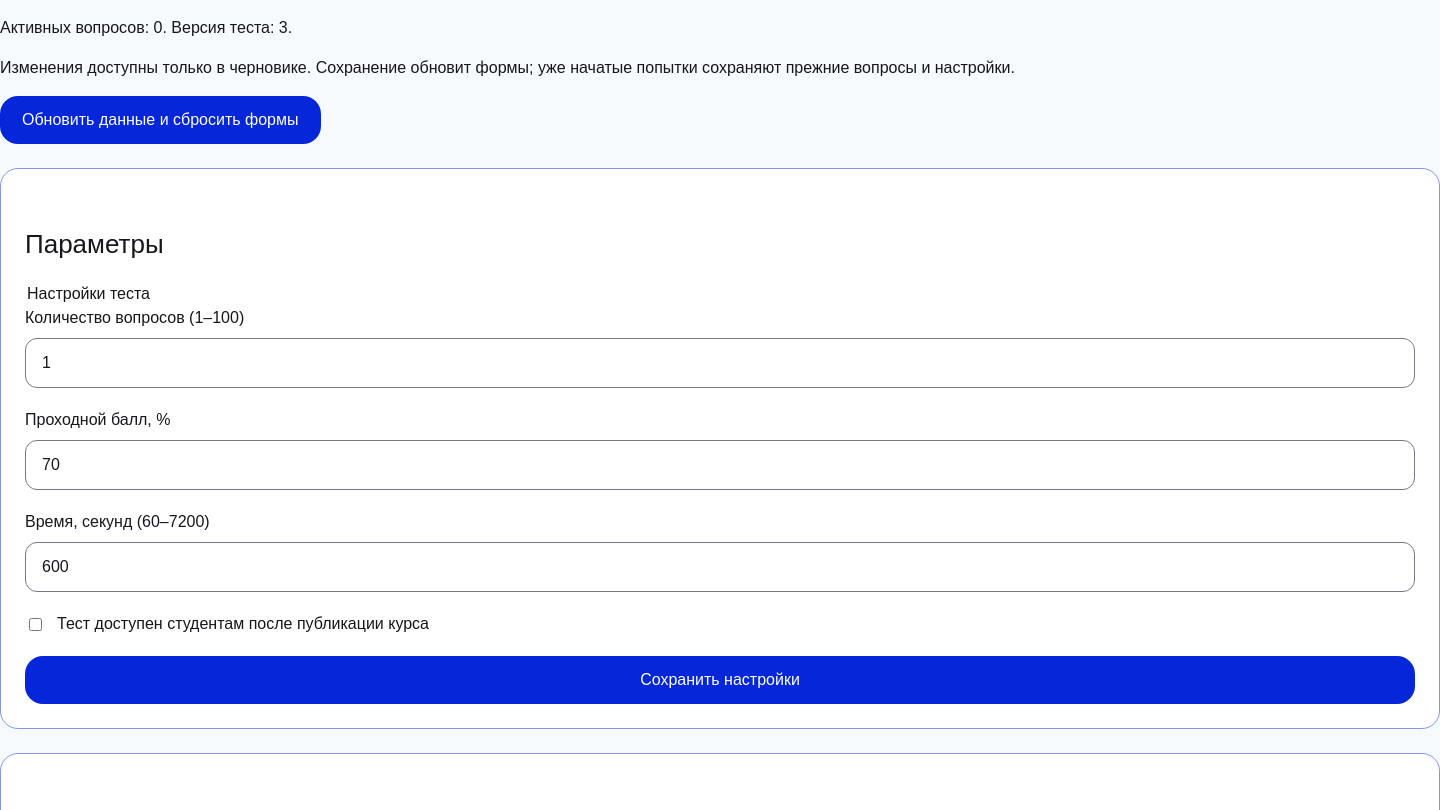
it: quiz authoring › keeps config fields on a stale revision error
The width and height of the screenshot is (1440, 810).
Step 1. Replace the text in the number field labelled "Количество вопросов (1–100)" with "5" → (720, 363), box [25, 338, 1415, 388]
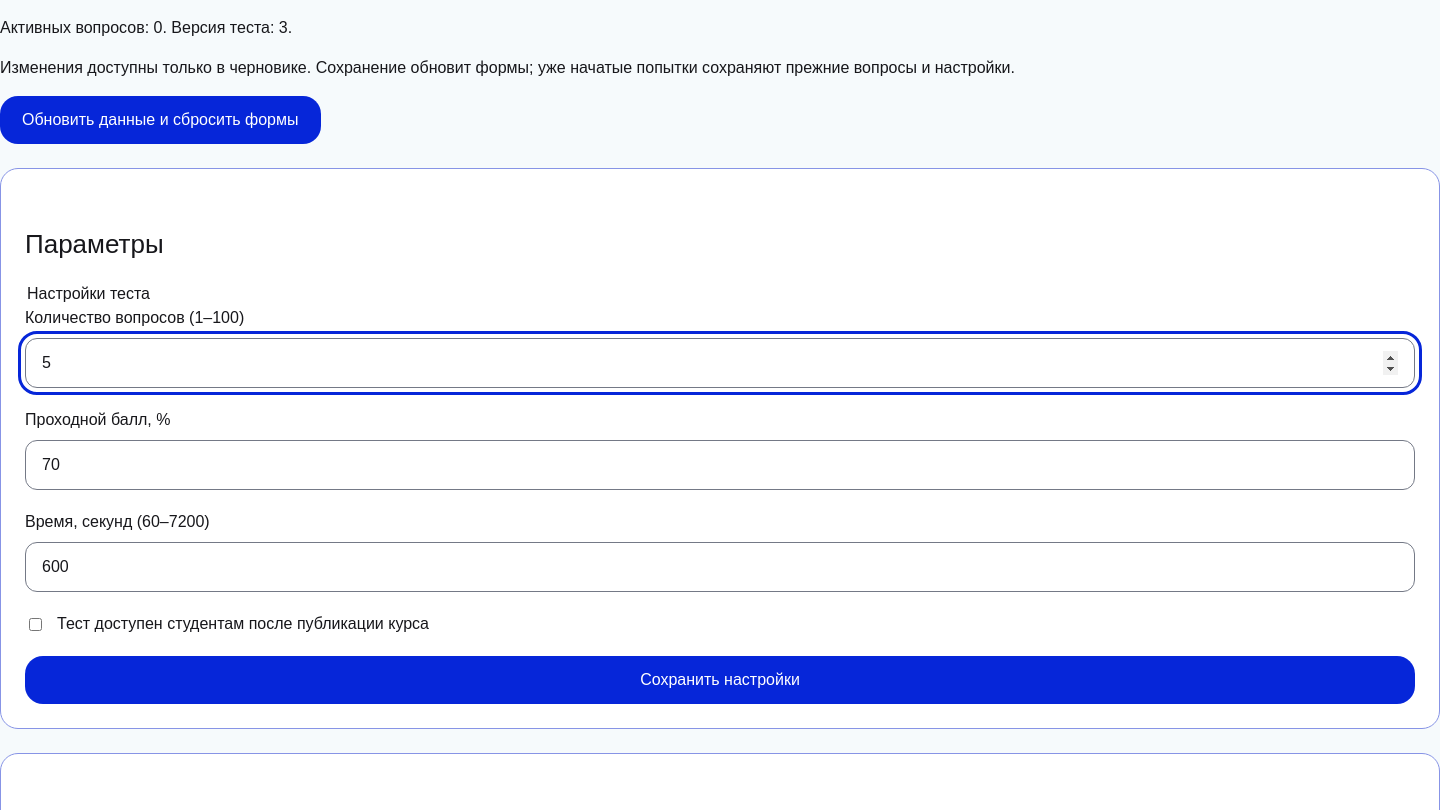
Step 2. Click the button "Сохранить настройки" → (720, 680), box [25, 656, 1415, 704]
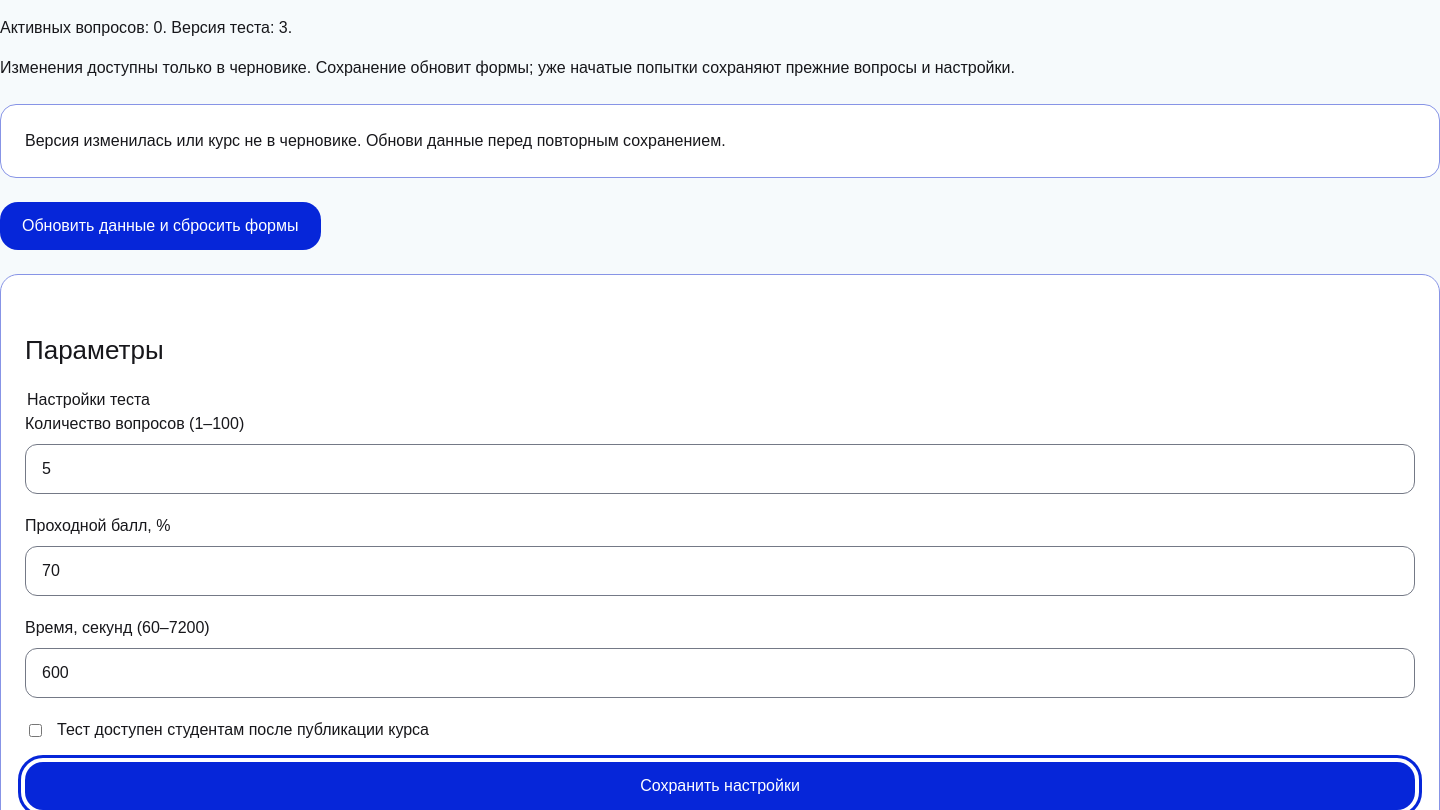
Result: the message shows "Версия изменилась" at [25, 132, 726, 149]
